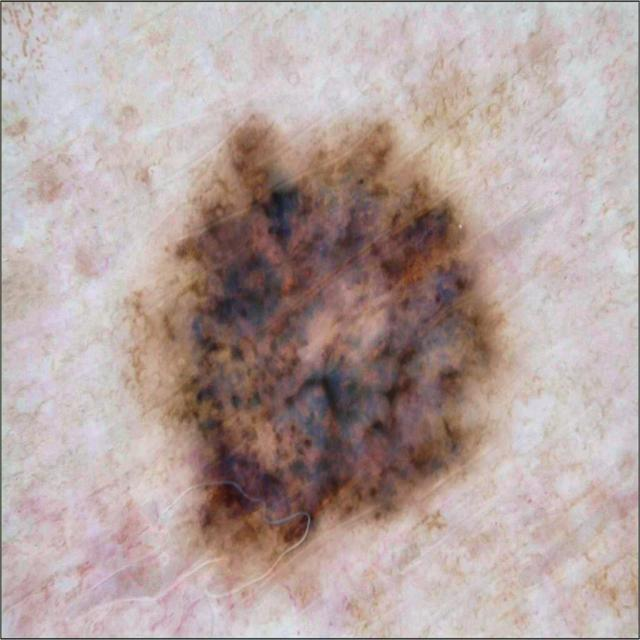Melanocytic-Nevi-NV-: (134, 117, 491, 547)
